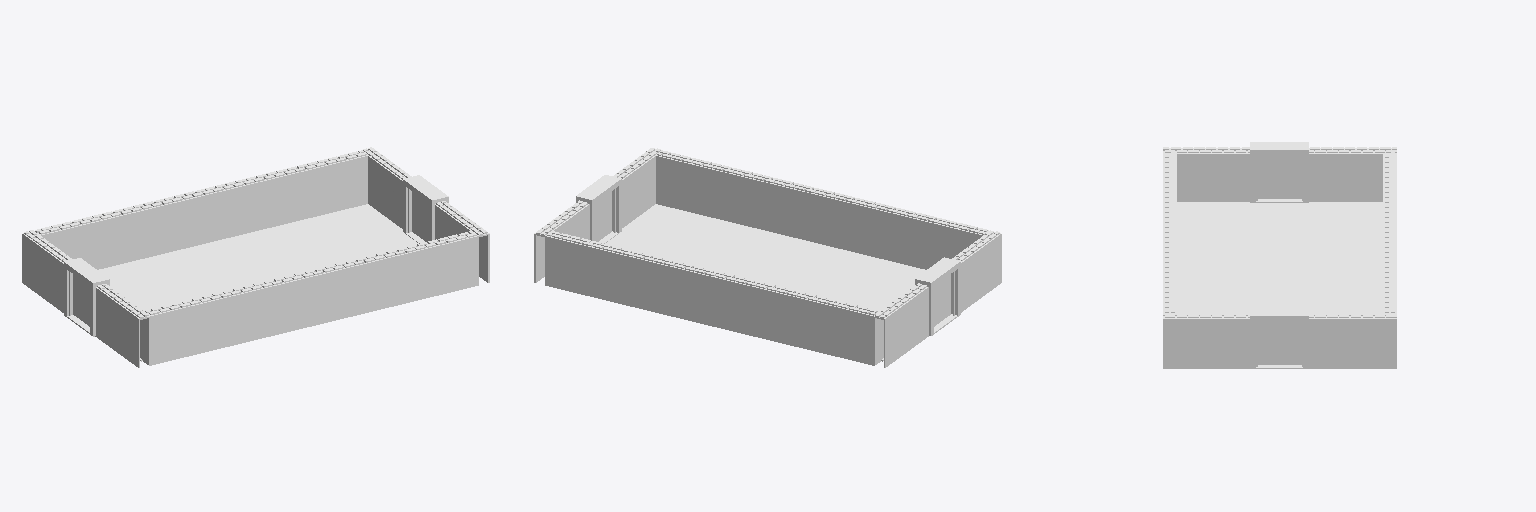
File: dungeon_template.obj
3 views of the same model, side by side, from view 1: azimuth 30°, elevation 25°; view 2: azimuth 150°, elevation 25°; view 3: azimuth 270°, elevation 25° (orthographic).
Visible parts, largest first — view 1: wall_short.002_wall_short.016, wall_short.005_wall_short.018, wall_short.004_wall_short.017, wall_short, wall_short.003, wall_short.001, wall_short.006_wall_short.022, wall_short.009_wall_short.023, wall_half.003_wall_half.010, wall_half.002_wall_half.009, wall_half.001, wall_short.008_wall_short.021 (+6 smaller); view 2: wall_short, wall_short.003, wall_short.001, wall_short.002_wall_short.016, wall_short.005_wall_short.018, wall_short.004_wall_short.017, wall_short.009_wall_short.023, wall_short.006_wall_short.022, wall_half.000_wall_half.006, wall_half.001, wall_half.002_wall_half.009, wall_short.007_wall_short.020 (+6 smaller); view 3: wall_short.008_wall_short.021, wall_short.007_wall_short.020, wall_short.009_wall_short.023, wall_short.006_wall_short.022, door-0.001, door-0.000_door-0.002, arch.001, arch, wall_short, wall_short.001, wall_short.002_wall_short.016, wall_short.004_wall_short.017 (+2 smaller).
Boxes of the visible parts, x1,y1,x2,y2 form: wall_short.002_wall_short.016: [268, 261, 354, 335]; wall_short.005_wall_short.018: [350, 241, 436, 315]; wall_short.004_wall_short.017: [186, 281, 272, 355]; wall_short: [158, 180, 244, 253]; wall_short.003: [240, 160, 326, 233]; wall_short.001: [76, 200, 162, 269]; wall_short.006_wall_short.022: [95, 284, 150, 367]; wall_short.009_wall_short.023: [22, 230, 72, 315]; wall_half.003_wall_half.010: [144, 301, 191, 365]; wall_half.002_wall_half.009: [432, 231, 477, 295]; wall_half.001: [322, 150, 367, 213]; wall_short.008_wall_short.021: [363, 147, 411, 232]; wall_short: [669, 261, 754, 335]; wall_short.003: [587, 241, 672, 315]; wall_short.001: [751, 281, 836, 355]; wall_short.002_wall_short.016: [779, 180, 865, 253]; wall_short.005_wall_short.018: [697, 160, 783, 233]; wall_short.004_wall_short.017: [861, 200, 947, 269]; wall_short.009_wall_short.023: [873, 283, 928, 367]; wall_short.006_wall_short.022: [952, 230, 1001, 315]; wall_half.000_wall_half.006: [832, 301, 879, 365]; wall_half.001: [546, 231, 591, 295]; wall_half.002_wall_half.009: [656, 150, 701, 213]; wall_short.007_wall_short.020: [613, 148, 660, 232]; wall_short.008_wall_short.021: [1302, 313, 1396, 368]; wall_short.007_wall_short.020: [1163, 313, 1257, 368]; wall_short.009_wall_short.023: [1302, 147, 1396, 201]; wall_short.006_wall_short.022: [1163, 147, 1257, 201]; door-0.001: [1258, 321, 1301, 364]; door-0.000_door-0.002: [1258, 156, 1301, 198]; arch.001: [1250, 142, 1308, 202]; arch: [1250, 308, 1308, 368]; wall_short: [1383, 212, 1396, 253]; wall_short.001: [1383, 172, 1396, 213]; wall_short.002_wall_short.016: [1163, 212, 1176, 253]; wall_short.004_wall_short.017: [1163, 172, 1176, 213].
Bounding box in the file's own units: 27.8 × 4.05 × 15.8.